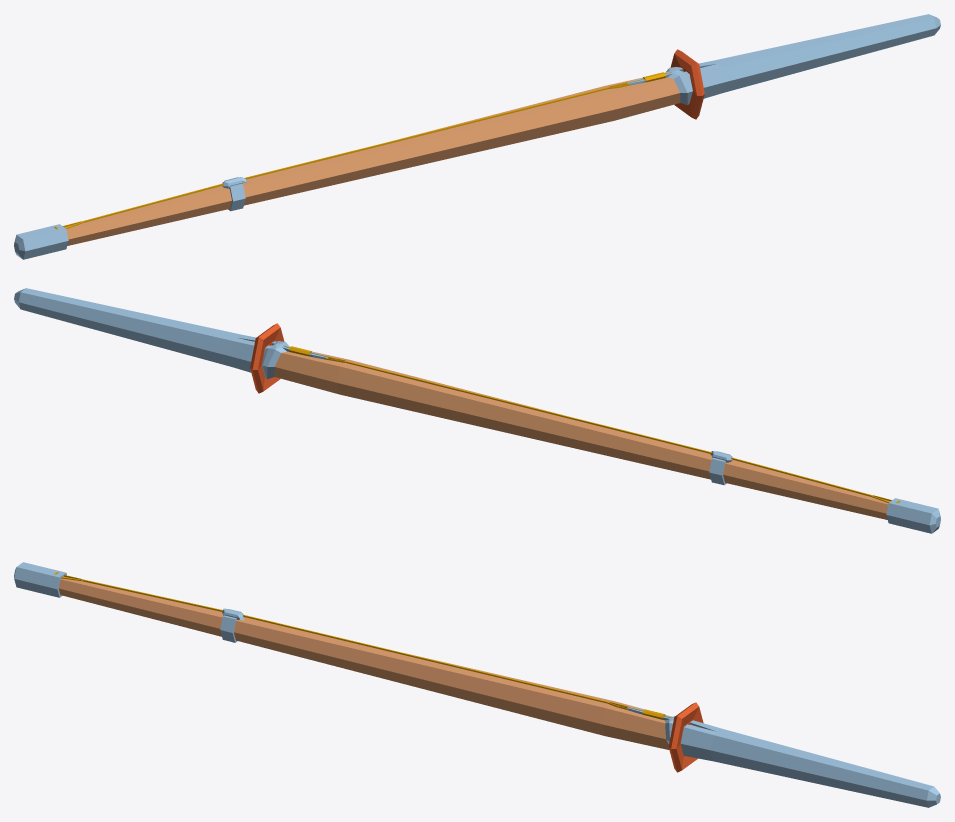
File: Shinai.fbx
3 views of the same model, one above another, from view 1: azimuth 30°, elevation 25°; view 2: azimuth 150°, elevation 25°; view 3: azimuth 330°, elevation 25° (orthographic).
Visible parts, largest first — view 1: Shinai; view 2: Shinai; view 3: Shinai.
Part boxes in pixels (x1=…): Shinai: x1=14, y1=14, x2=940, y2=259; Shinai: x1=14, y1=288, x2=940, y2=533; Shinai: x1=14, y1=562, x2=940, y2=807.
Size of the model in its own units: 123 by 7.26 by 7.26.
